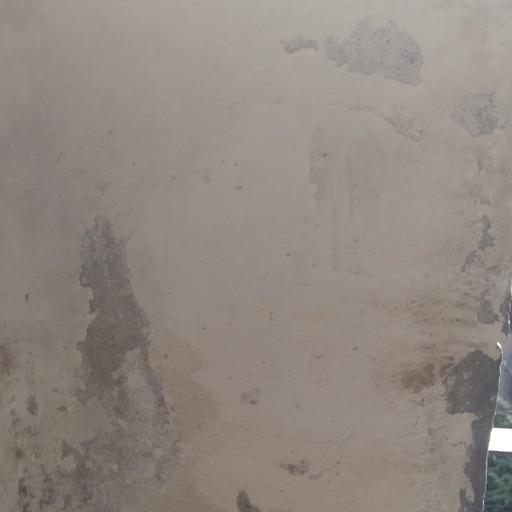peeling: (0, 190, 273, 512), (278, 9, 512, 162), (411, 180, 512, 512)
